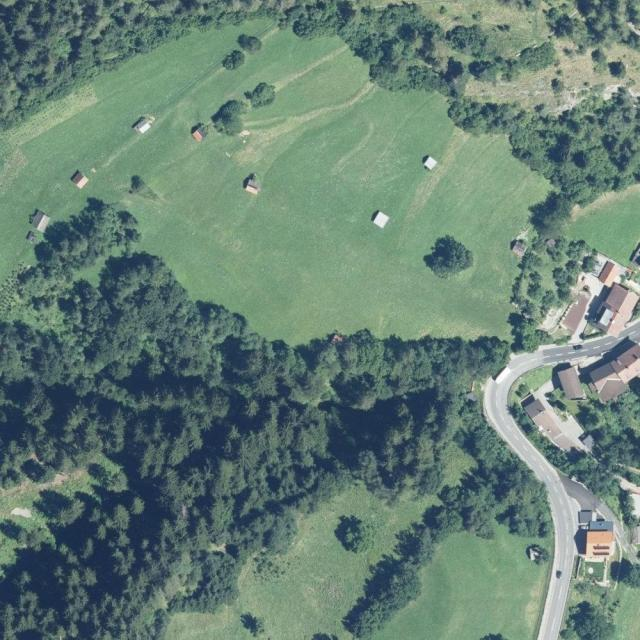building: (517, 389, 586, 463), (559, 288, 592, 335), (608, 342, 640, 385), (556, 365, 587, 405), (585, 519, 616, 559), (131, 112, 158, 137), (28, 210, 53, 234), (241, 173, 263, 195), (596, 259, 616, 283), (188, 122, 209, 144), (69, 170, 89, 190), (372, 210, 391, 229), (510, 240, 528, 259), (420, 154, 438, 171), (577, 510, 593, 524)
greenland: (0, 265, 558, 640), (155, 446, 473, 640), (374, 118, 557, 363), (0, 0, 296, 129), (97, 111, 259, 320), (206, 22, 384, 197), (252, 173, 378, 342), (370, 526, 550, 640), (498, 187, 607, 364), (498, 395, 640, 530), (327, 52, 432, 226), (87, 18, 252, 128), (332, 515, 456, 640), (57, 247, 200, 355), (346, 209, 426, 338), (564, 164, 640, 266), (2, 157, 80, 211), (152, 78, 246, 116), (214, 27, 264, 75), (205, 16, 283, 45), (420, 92, 451, 159), (556, 365, 588, 406), (188, 116, 218, 137)
